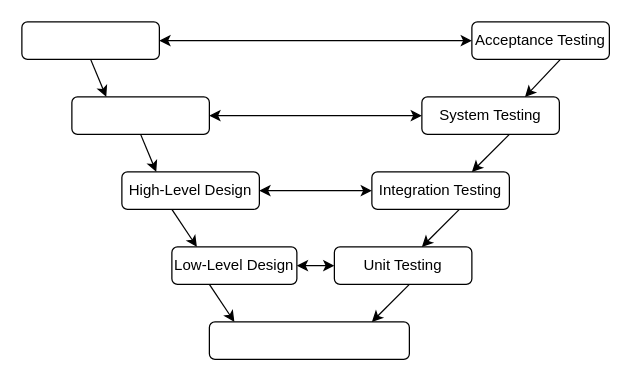
Some shapes in this 631 by 381 pixel diagram are drawn without their labels. The centre of each missing label's shape, as x and y in pixels:
"Coding/Implementation" goes at (x=308, y=340).
"Requirements" goes at (x=90, y=40).
"System Design" goes at (x=140, y=115).
